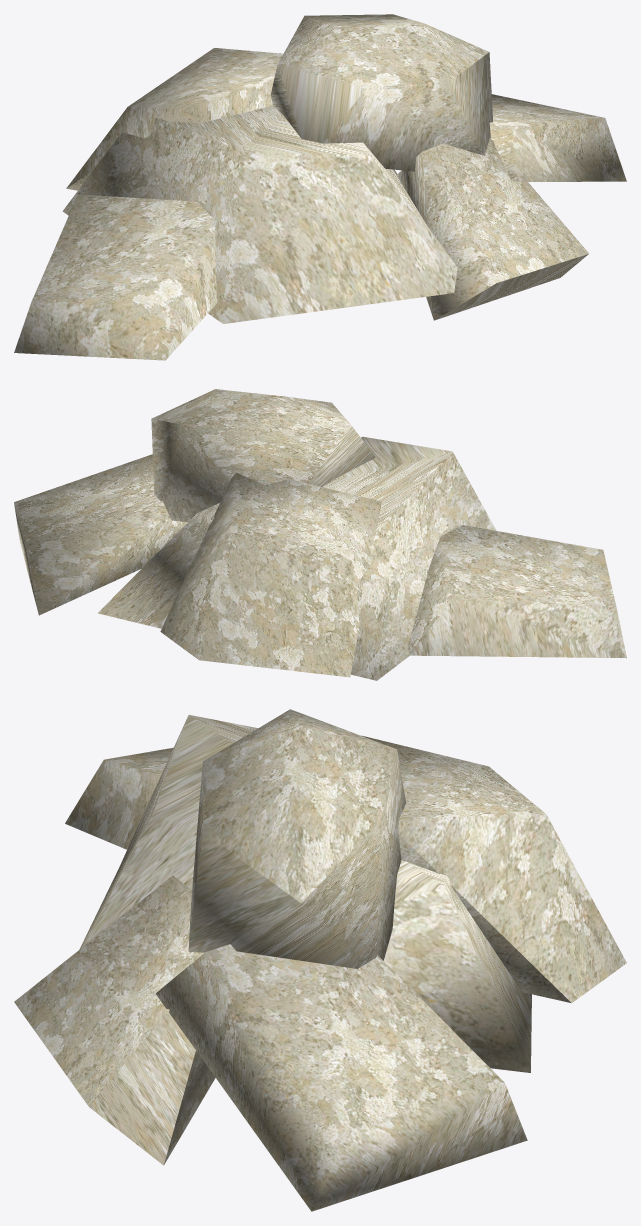
The model's file is rock_formation_a1_l4.fbx.
The picture shows the model from 3 angles, top to bottom: view 1: azimuth 30°, elevation 25°; view 2: azimuth 150°, elevation 25°; view 3: azimuth 270°, elevation 25°; orthographic projection. The views are drawn at different scales.
Parts seen in each view (by area): view 1: mesh_node; view 2: mesh_node; view 3: mesh_node.
Boxes of the visible parts, x1,y1,x2,y2 form: mesh_node: (14, 14, 626, 360); mesh_node: (14, 389, 626, 680); mesh_node: (14, 709, 626, 1211).
Bounding box in the file's own units: 14.03 × 5.28 × 8.88.
